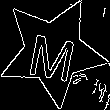M_N: (25, 22, 80, 81)
